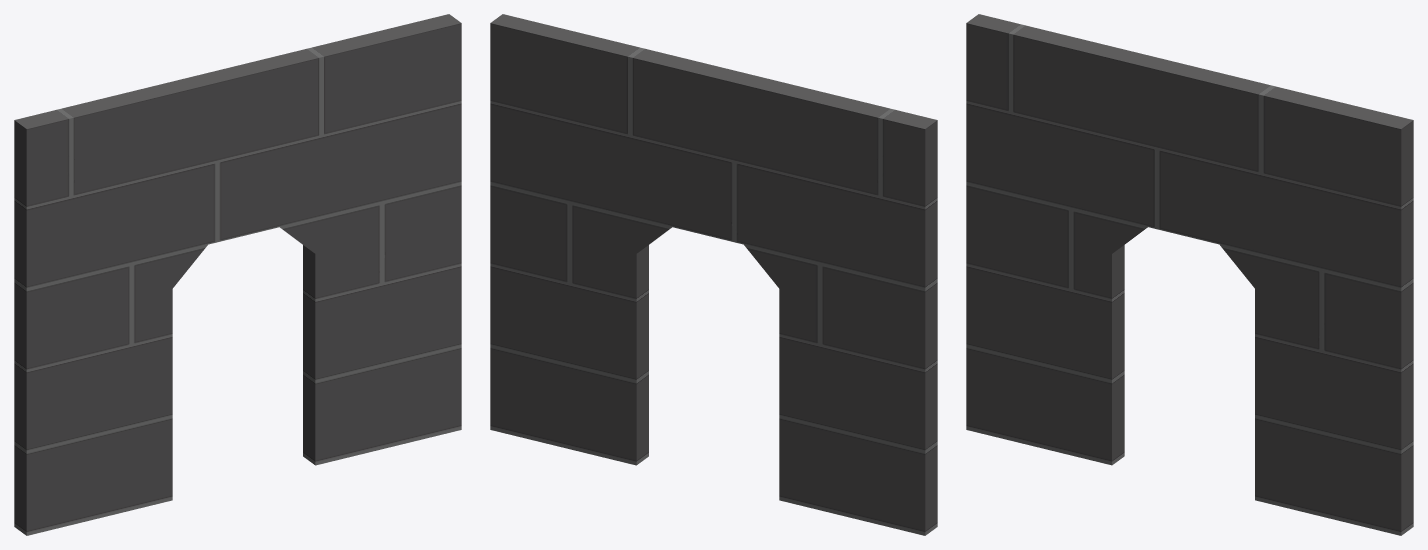
File: wallDoor.fbx
3 views of the same model, side by side, from view 1: azimuth 30°, elevation 25°; view 2: azimuth 150°, elevation 25°; view 3: azimuth 330°, elevation 25° (orthographic).
Parts seen in each view (by area): view 1: geo_wallDoor; view 2: geo_wallDoor; view 3: geo_wallDoor.
Boxes of the visible parts, bbox=[...] form: geo_wallDoor: bbox=[14, 14, 461, 535]; geo_wallDoor: bbox=[490, 14, 937, 535]; geo_wallDoor: bbox=[966, 14, 1413, 535].
Bounding box in the file's own units: 970 × 867 × 48.16.
Materials: 1 (1 with a texture image).
